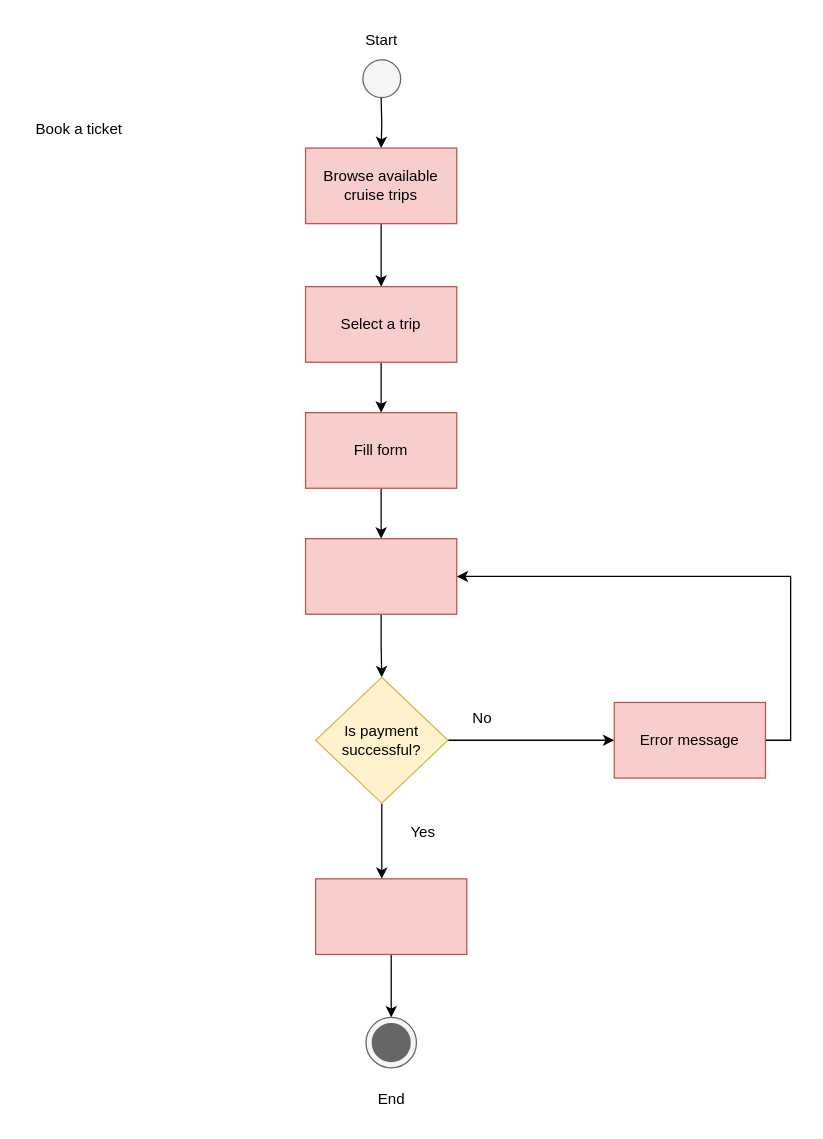
This 823x1139 diagram has some shape labels left out. Here are the shapes that lost their labels. From the top down, the box of each, then its label:
(304, 537, 457, 614): Online payment
(314, 878, 467, 954): Receive confirmation
